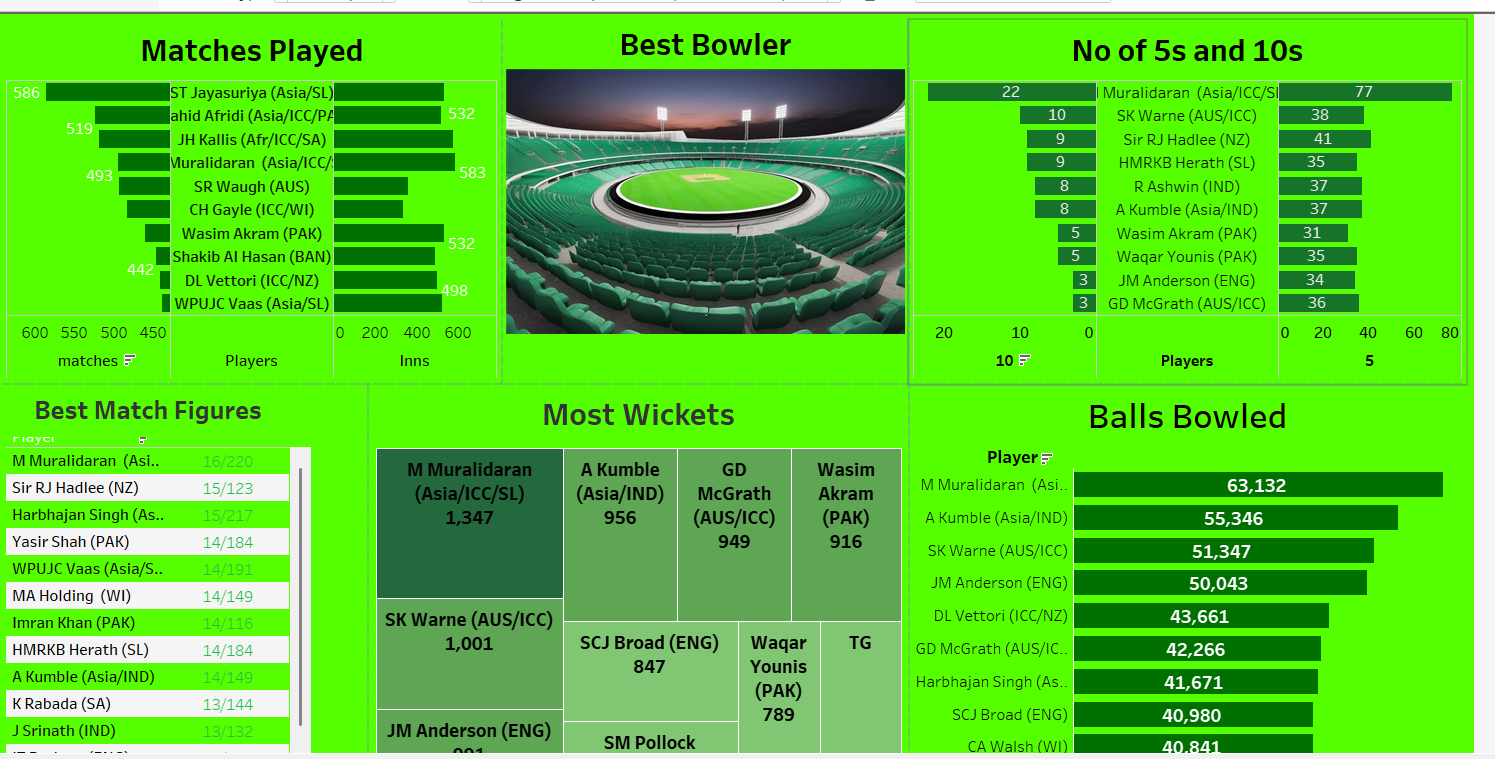

The dashboard page shown, as its layout file describes it:
{"tool":"tableau","page":{"name":"Dashboard 1","canvas":[1480,824],"ordinal":0},"visuals":[{"type":"worksheet","title":"Most Matches","mark":"Automatic","rows":["Player"],"cols":["Mat","Calculation_1152358566954389504","Inns"],"box":[8,8,500,364]},{"type":"image","param":"Image/3d-render-beautiful-modern-round-cricket-stadium-with-green-seats-vip-boxe","box":[508,8,407,364]},{"type":"worksheet","title":"No of 5s and 10s","mark":"Automatic","rows":["Player"],"cols":["10","Calculation_1152358566954389504","5"],"box":[915,8,557,364]},{"type":"text","box":[622,10,179,41]},{"type":"worksheet","title":"Best matches","mark":"Automatic","rows":["Player"],"box":[8,372,366,444]},{"type":"worksheet","title":"Most Wickets","mark":"Automatic","box":[374,372,541.1,444]},{"type":"worksheet","title":"Most Balls Bar charts","mark":"Automatic","rows":["Player"],"cols":["Balls"],"box":[915.1,372,556.9,444]}]}

Visuals, with their boxes on the page's 1480x824 design canvas (x1, y1, x2, y2). These are canvas units, not pixel positions in the 1495x759 screenshot, which may show the page scaled, cropped or inside an application window:
"Most Matches" worksheet: <box>8,8,508,372</box>
image: <box>508,8,915,372</box>
"No of 5s and 10s" worksheet: <box>915,8,1472,372</box>
text: <box>622,10,801,51</box>
"Best matches" worksheet: <box>8,372,374,816</box>
"Most Wickets" worksheet: <box>374,372,915,816</box>
"Most Balls Bar charts" worksheet: <box>915,372,1472,816</box>
